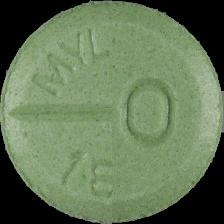0378-0184: (0, 0, 224, 224)
